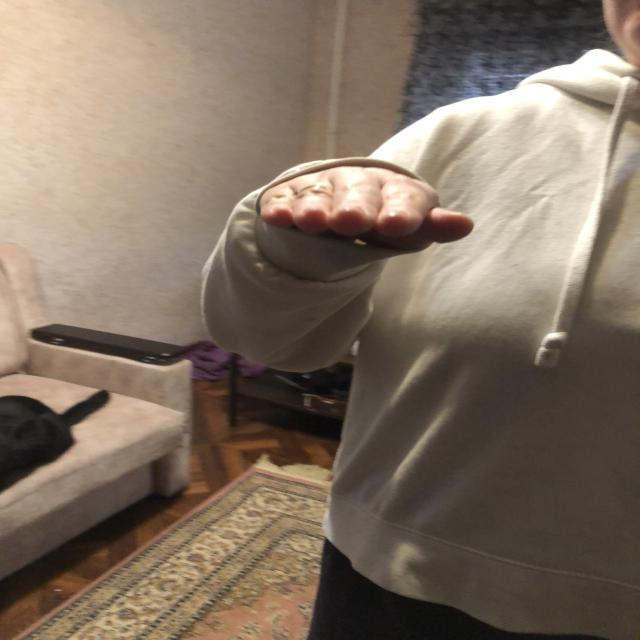paper: (270, 170, 471, 238)
